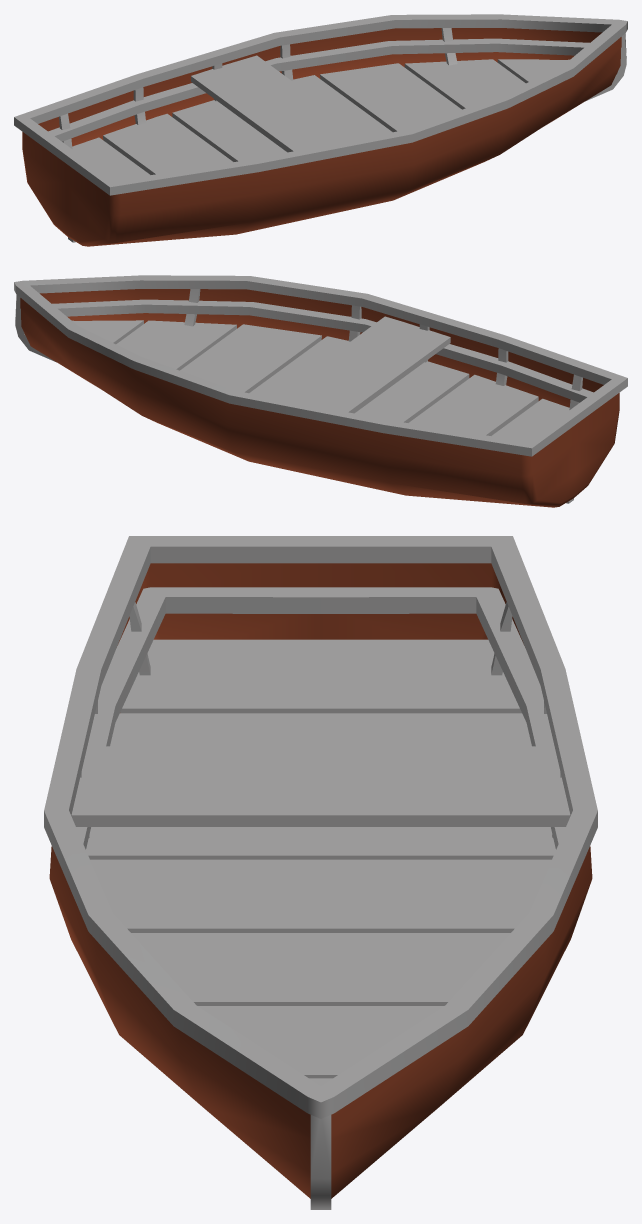
File: boat_final.fbx
The picture shows the model from 3 angles, top to bottom: view 1: azimuth 30°, elevation 25°; view 2: azimuth 150°, elevation 25°; view 3: azimuth 270°, elevation 25°; orthographic projection. The views are drawn at different scales.
Parts seen in each view (by area): view 1: Plane001; view 2: Plane001; view 3: Plane001.
Part boxes in pixels (box(x1,y1,x2,y2)): Plane001: box(14, 14, 627, 246); Plane001: box(14, 275, 627, 507); Plane001: box(44, 536, 597, 1209).
Size of the model in its own units: 259 by 41.47 by 110.
